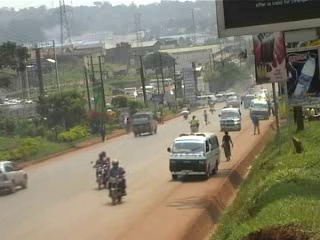Car: (0, 155, 30, 196)
Motorcycle: (93, 160, 109, 188), (108, 175, 124, 202), (188, 121, 199, 133), (182, 112, 190, 121)
